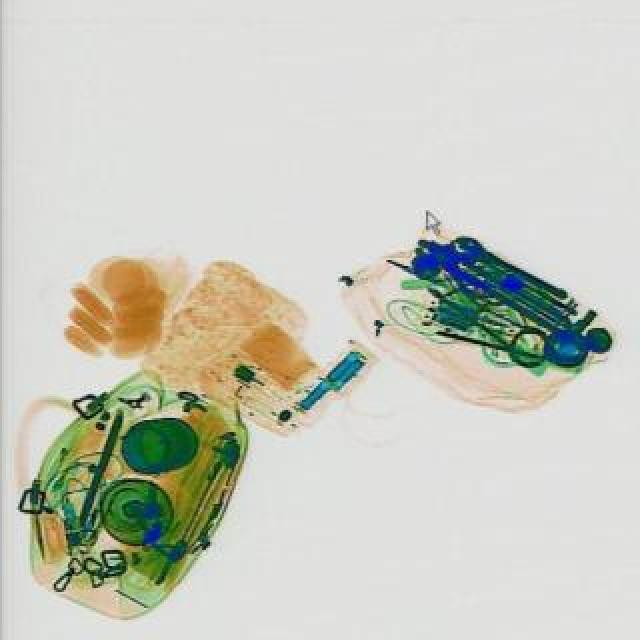scissors: (448, 230, 570, 304)
